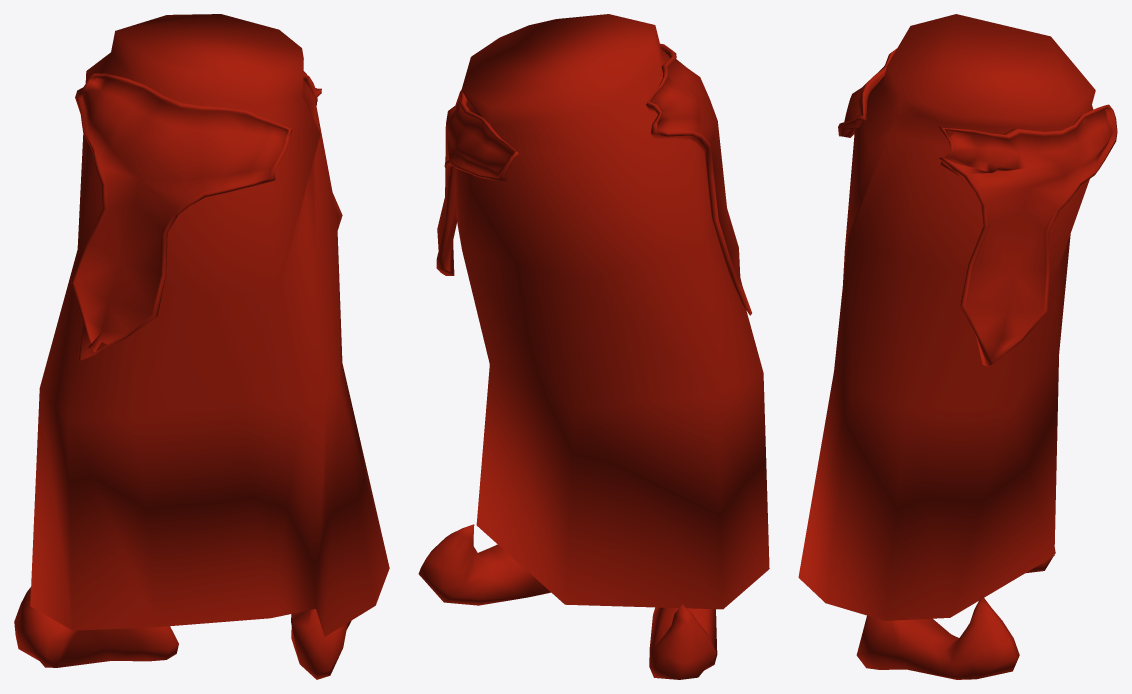
The model's file is bot_000047.obj.
3 renders of one model, left to right at view 1: azimuth 30°, elevation 25°; view 2: azimuth 150°, elevation 25°; view 3: azimuth 270°, elevation 25°, orthographic. The views are drawn at different scales.
Visible parts, largest first — view 1: LowPoly_Warlock.004_Plane.004; view 2: LowPoly_Warlock.004_Plane.004; view 3: LowPoly_Warlock.004_Plane.004.
Part boxes in pixels (left/top/right/bottom): LowPoly_Warlock.004_Plane.004: left=14, top=14, right=389, bottom=679; LowPoly_Warlock.004_Plane.004: left=418, top=14, right=769, bottom=679; LowPoly_Warlock.004_Plane.004: left=798, top=14, right=1117, bottom=679.
Bounding box in the file's own units: 0.6035 × 1.14 × 0.5545.
